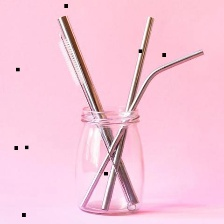drinking_straw: (98, 12, 156, 213)
glass: (69, 99, 148, 218)
